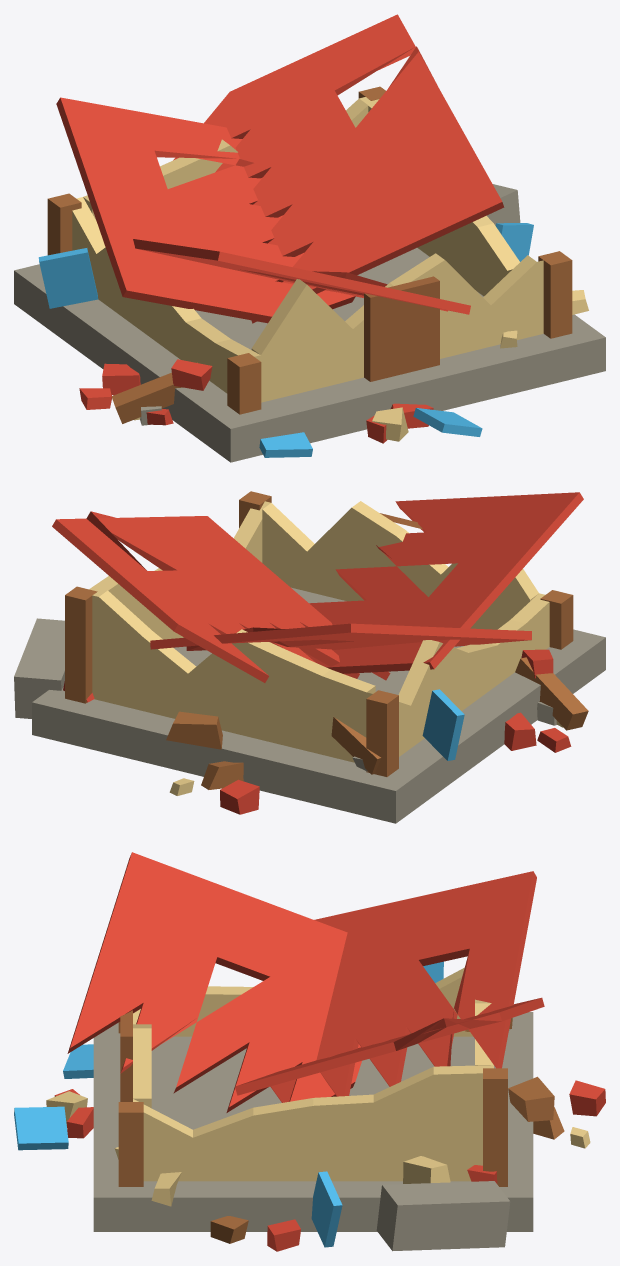
File: house_t2_v1_dmg2.glb
3 views of the same model, one above another, from view 1: azimuth 30°, elevation 25°; view 2: azimuth 150°, elevation 25°; view 3: azimuth 270°, elevation 25° (orthographic). The views are drawn at different scales.
Parts seen in each view (by area): view 1: house_t2_v1_dmg2; view 2: house_t2_v1_dmg2; view 3: house_t2_v1_dmg2.
Boxes of the visible parts, bbox=[...] form: house_t2_v1_dmg2: bbox=[14, 14, 605, 462]; house_t2_v1_dmg2: bbox=[14, 491, 605, 823]; house_t2_v1_dmg2: bbox=[14, 852, 605, 1251].
Size of the model in its own units: 0.9182 by 0.3785 by 0.9427.
Materials: 1 (1 with a texture image).
